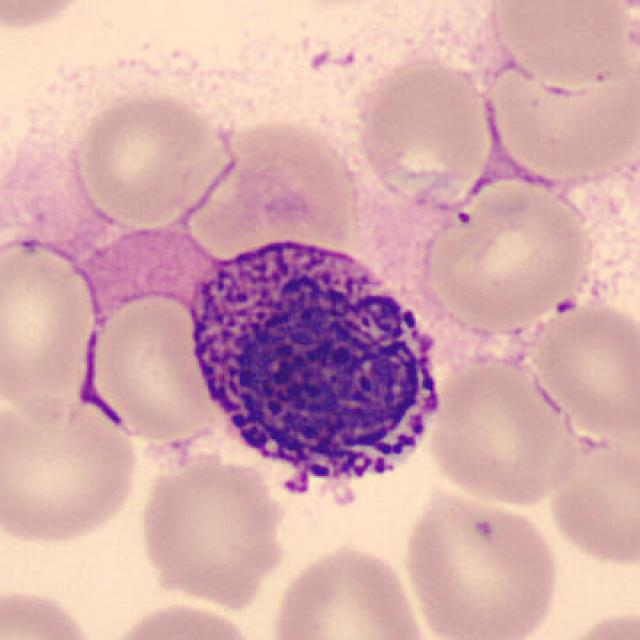Basophil: (178, 224, 460, 522)
RBC: (414, 164, 596, 335), (134, 442, 292, 614), (398, 486, 563, 640), (423, 352, 585, 508), (73, 289, 224, 444), (0, 390, 144, 548), (69, 88, 231, 228), (478, 51, 636, 187), (354, 55, 496, 201), (0, 233, 100, 418), (220, 113, 361, 241), (265, 539, 432, 640), (524, 294, 638, 441), (480, 0, 636, 95), (544, 432, 640, 569), (95, 597, 268, 640), (0, 583, 103, 640), (0, 0, 101, 33), (549, 606, 639, 640)
